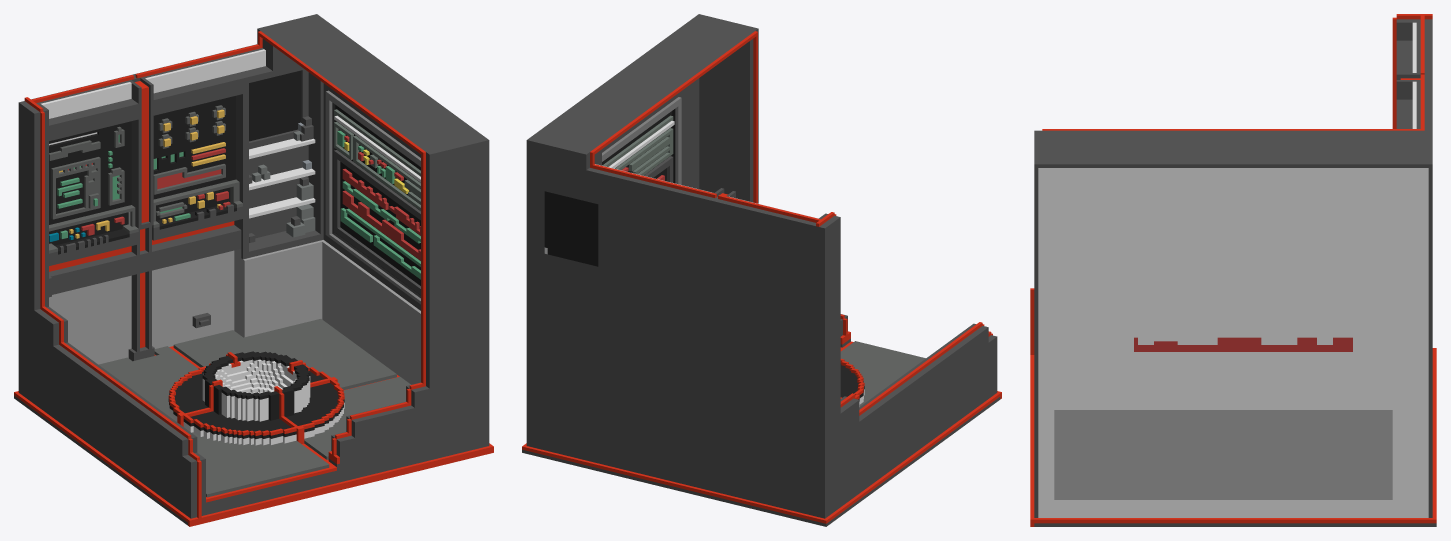
The model's file is Room_5.obj.
The picture shows the model from 3 angles, left to right: view 1: azimuth 30°, elevation 25°; view 2: azimuth 150°, elevation 25°; view 3: azimuth 270°, elevation 25°; orthographic projection. The views are drawn at different scales.
Size of the model in its own units: 102 by 100 by 102.
